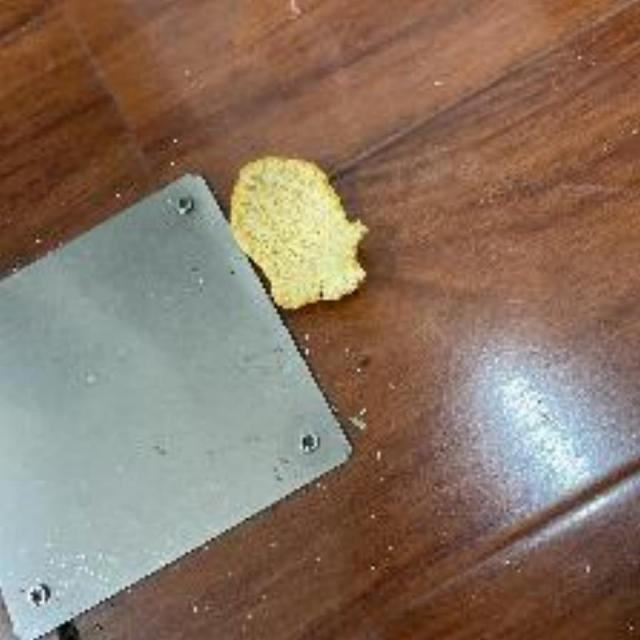orange peel: (220, 147, 374, 306)
